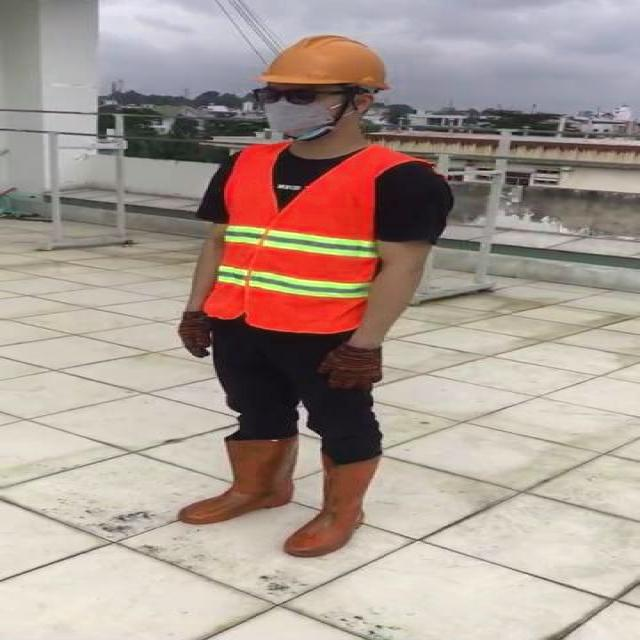boots: (176, 433, 300, 526), (284, 453, 384, 559)
face_mask: (251, 80, 341, 140)
glasses: (249, 82, 332, 110)
hand_glove: (316, 346, 386, 391), (180, 312, 206, 360)
head_helmet: (253, 29, 399, 90)
person: (152, 28, 465, 566)
vest: (202, 143, 378, 331)
